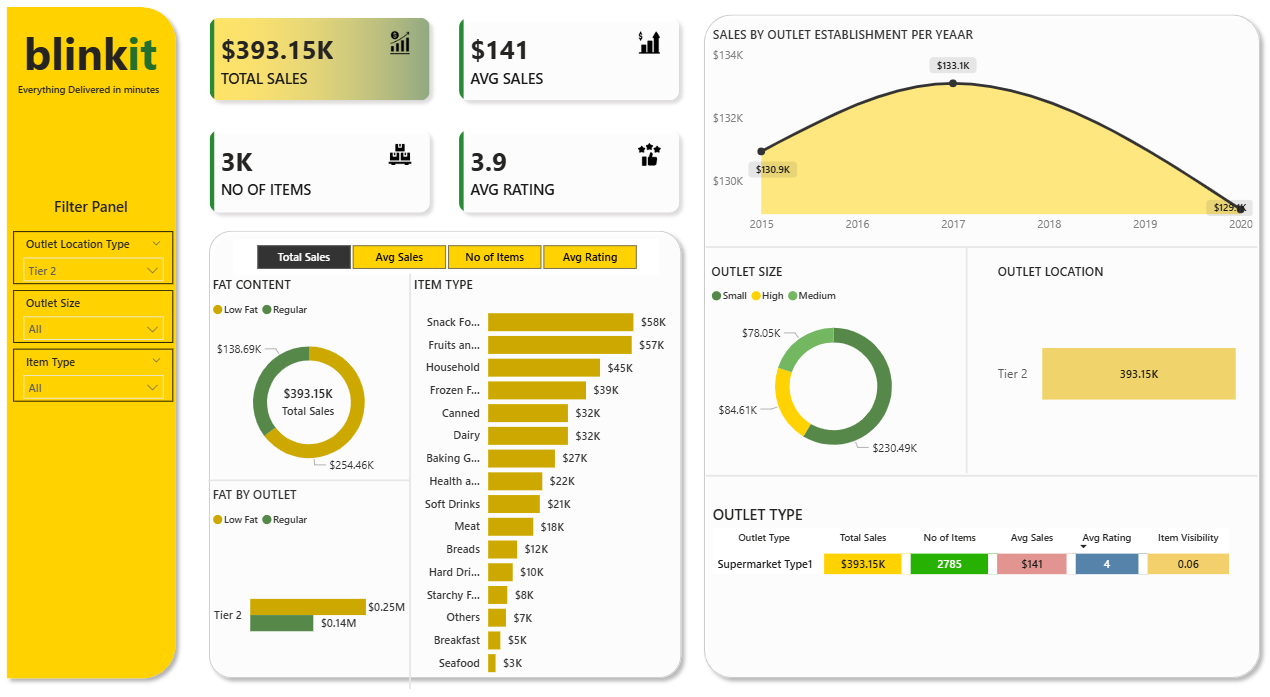

What the dashboard file says about the page in this screenshot:
{"tool":"powerbi","page":{"name":"Page 2","canvas":[1400,800],"ordinal":1},"visuals":[{"type":"shape","box":[1.5,15,202.6,750.4],"z":0},{"type":"textbox","box":[0,36,204.1,82.5],"z":1000},{"type":"cardVisual","fields":{"Data":["BlinkIT Grocery Data.Total Sales","BlinkIT Grocery Data.Avg Sales","BlinkIT Grocery Data.No of Items","BlinkIT Grocery Data.Avg Rating"]},"box":[202.9,7.1,570,270],"z":2000},{"type":"shape","box":[222.2,259,533.1,505.8],"z":3000},{"type":"slicer","fields":{"Values":["Metrics.Metrics"]},"box":[257.1,277.1,464.3,40],"z":4000},{"type":"donutChart","title":"FAT CONTENT","fields":{"Y":["BlinkIT Grocery Data.Total Sales"],"Category":["BlinkIT Grocery Data.Item Fat Content"]},"box":[230,317.1,220,230],"z":5000},{"type":"cardVisual","fields":{"Data":["BlinkIT Grocery Data.Total Sales"]},"box":[281.4,420,117.1,68.6],"z":6000},{"type":"clusteredBarChart","title":"FAT BY OUTLET","fields":{"Y":["BlinkIT Grocery Data.Total Sales"],"Category":["BlinkIT Grocery Data.Outlet Location Type"],"Series":["BlinkIT Grocery Data.Item Fat Content"]},"box":[230,547.1,220,230],"z":7000},{"type":"barChart","title":"ITEM TYPE","fields":{"Y":["BlinkIT Grocery Data.Total Sales"],"Category":["BlinkIT Grocery Data.Item Type"]},"box":[450,317.1,291.4,447.1],"z":8000},{"type":"shape","box":[230,517.1,220,47.1],"z":9000},{"type":"shape","box":[437.1,314.3,25.7,452.9],"z":10000},{"type":"shape","box":[762.1,23.2,624.4,741.7],"z":11000},{"type":"lineChart","title":"SALES BY OUTLET ESTABLISHMENT PER YEAAR","fields":{"Y":["BlinkIT Grocery Data.Total Sales"],"Category":["BlinkIT Grocery Data.Outlet Establishment Year"]},"box":[775.9,45,598.8,234.1],"z":12000},{"type":"shape","box":[772.9,261.2,601.8,48],"z":13000},{"type":"donutChart","title":"OUTLET SIZE","fields":{"Y":["BlinkIT Grocery Data.Total Sales"],"Category":["BlinkIT Grocery Data.Outlet Size"]},"box":[774.4,303.2,276.2,225.1],"z":14000},{"type":"shape","box":[1047.6,286.7,21,246.1],"z":15000},{"type":"funnel","title":"OUTLET LOCATION","fields":{"Y":["Sum(BlinkIT Grocery Data.Sales)"],"Category":["BlinkIT Grocery Data.Outlet Location Type"]},"box":[1086.6,303.2,274.7,225.1],"z":16000},{"type":"shape","box":[772.9,511.8,601.8,48],"z":17000},{"type":"pivotTable","title":"OUTLET TYPE","fields":{"Rows":["BlinkIT Grocery Data.Outlet Type"],"Values":["BlinkIT Grocery Data.Total Sales","BlinkIT Grocery Data.No of Items","BlinkIT Grocery Data.Avg Sales","BlinkIT Grocery Data.Avg Rating","Avg(BlinkIT Grocery Data.Item Visibility)"]},"box":[775.9,565.8,585.3,189.1],"z":18000},{"type":"textbox","box":[18,97.6,186.1,42],"z":19000},{"type":"slicer","fields":{"Values":["BlinkIT Grocery Data.Outlet Location Type"]},"box":[17.7,268.6,174.5,57.3],"z":20000},{"type":"slicer","fields":{"Values":["BlinkIT Grocery Data.Outlet Size"]},"box":[17.7,332.7,174.5,57.3],"z":21000},{"type":"slicer","fields":{"Values":["BlinkIT Grocery Data.Item Type"]},"box":[17.7,396.7,174.5,57.3],"z":22000},{"type":"textbox","box":[57.3,225,96.8,36.8],"z":22001}]}

Visuals, with their boxes on the page's 1400x800 design canvas (x1, y1, x2, y2). These are canvas units, not pixel positions in the 1270x697 screenshot, which may show the page scaled, cropped or inside an application window:
shape: x1=2 y1=15 x2=204 y2=765
textbox: x1=0 y1=36 x2=204 y2=118
cardVisual - BlinkIT Grocery Data.Total Sales x BlinkIT Grocery Data.Avg Sales: x1=203 y1=7 x2=773 y2=277
shape: x1=222 y1=259 x2=755 y2=765
slicer - Metrics.Metrics: x1=257 y1=277 x2=721 y2=317
"FAT CONTENT" donutChart: x1=230 y1=317 x2=450 y2=547
cardVisual - BlinkIT Grocery Data.Total Sales: x1=281 y1=420 x2=398 y2=489
"FAT BY OUTLET" clusteredBarChart: x1=230 y1=547 x2=450 y2=777
"ITEM TYPE" barChart: x1=450 y1=317 x2=741 y2=764
shape: x1=230 y1=517 x2=450 y2=564
shape: x1=437 y1=314 x2=463 y2=767
shape: x1=762 y1=23 x2=1386 y2=765
"SALES BY OUTLET ESTABLISHMENT PER YEAAR" lineChart: x1=776 y1=45 x2=1375 y2=279
shape: x1=773 y1=261 x2=1375 y2=309
"OUTLET SIZE" donutChart: x1=774 y1=303 x2=1051 y2=528
shape: x1=1048 y1=287 x2=1069 y2=533
"OUTLET LOCATION" funnel: x1=1087 y1=303 x2=1361 y2=528
shape: x1=773 y1=512 x2=1375 y2=560
"OUTLET TYPE" pivotTable: x1=776 y1=566 x2=1361 y2=755
textbox: x1=18 y1=98 x2=204 y2=140
slicer - BlinkIT Grocery Data.Outlet Location Type: x1=18 y1=269 x2=192 y2=326
slicer - BlinkIT Grocery Data.Outlet Size: x1=18 y1=333 x2=192 y2=390
slicer - BlinkIT Grocery Data.Item Type: x1=18 y1=397 x2=192 y2=454
textbox: x1=57 y1=225 x2=154 y2=262
